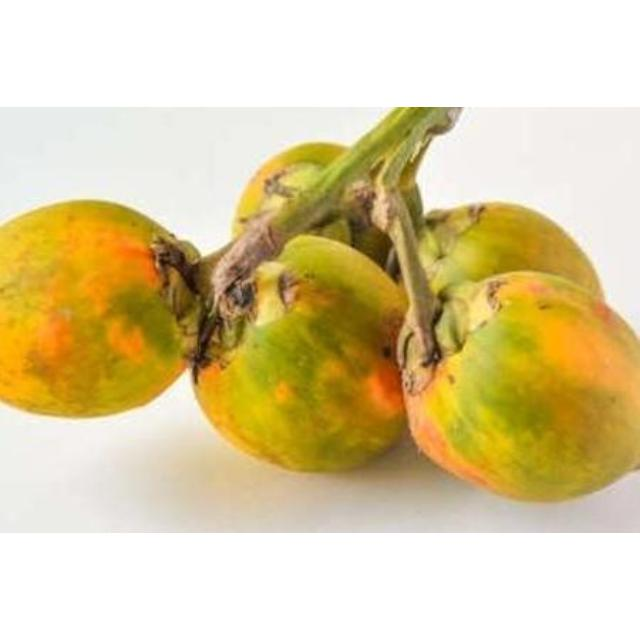good: (192, 174, 639, 505), (1, 201, 199, 421)
